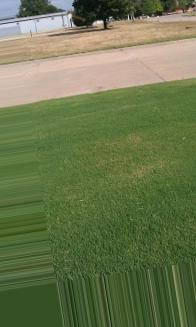patch: (133, 168, 148, 173)
